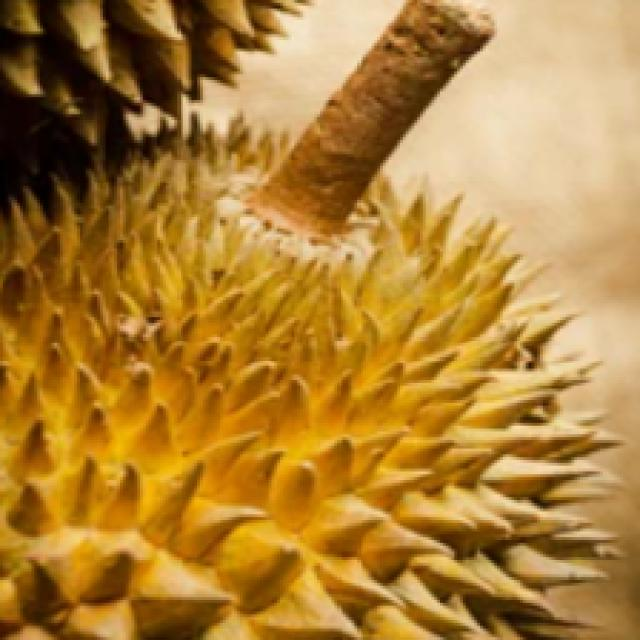d24: (10, 24, 583, 630)
